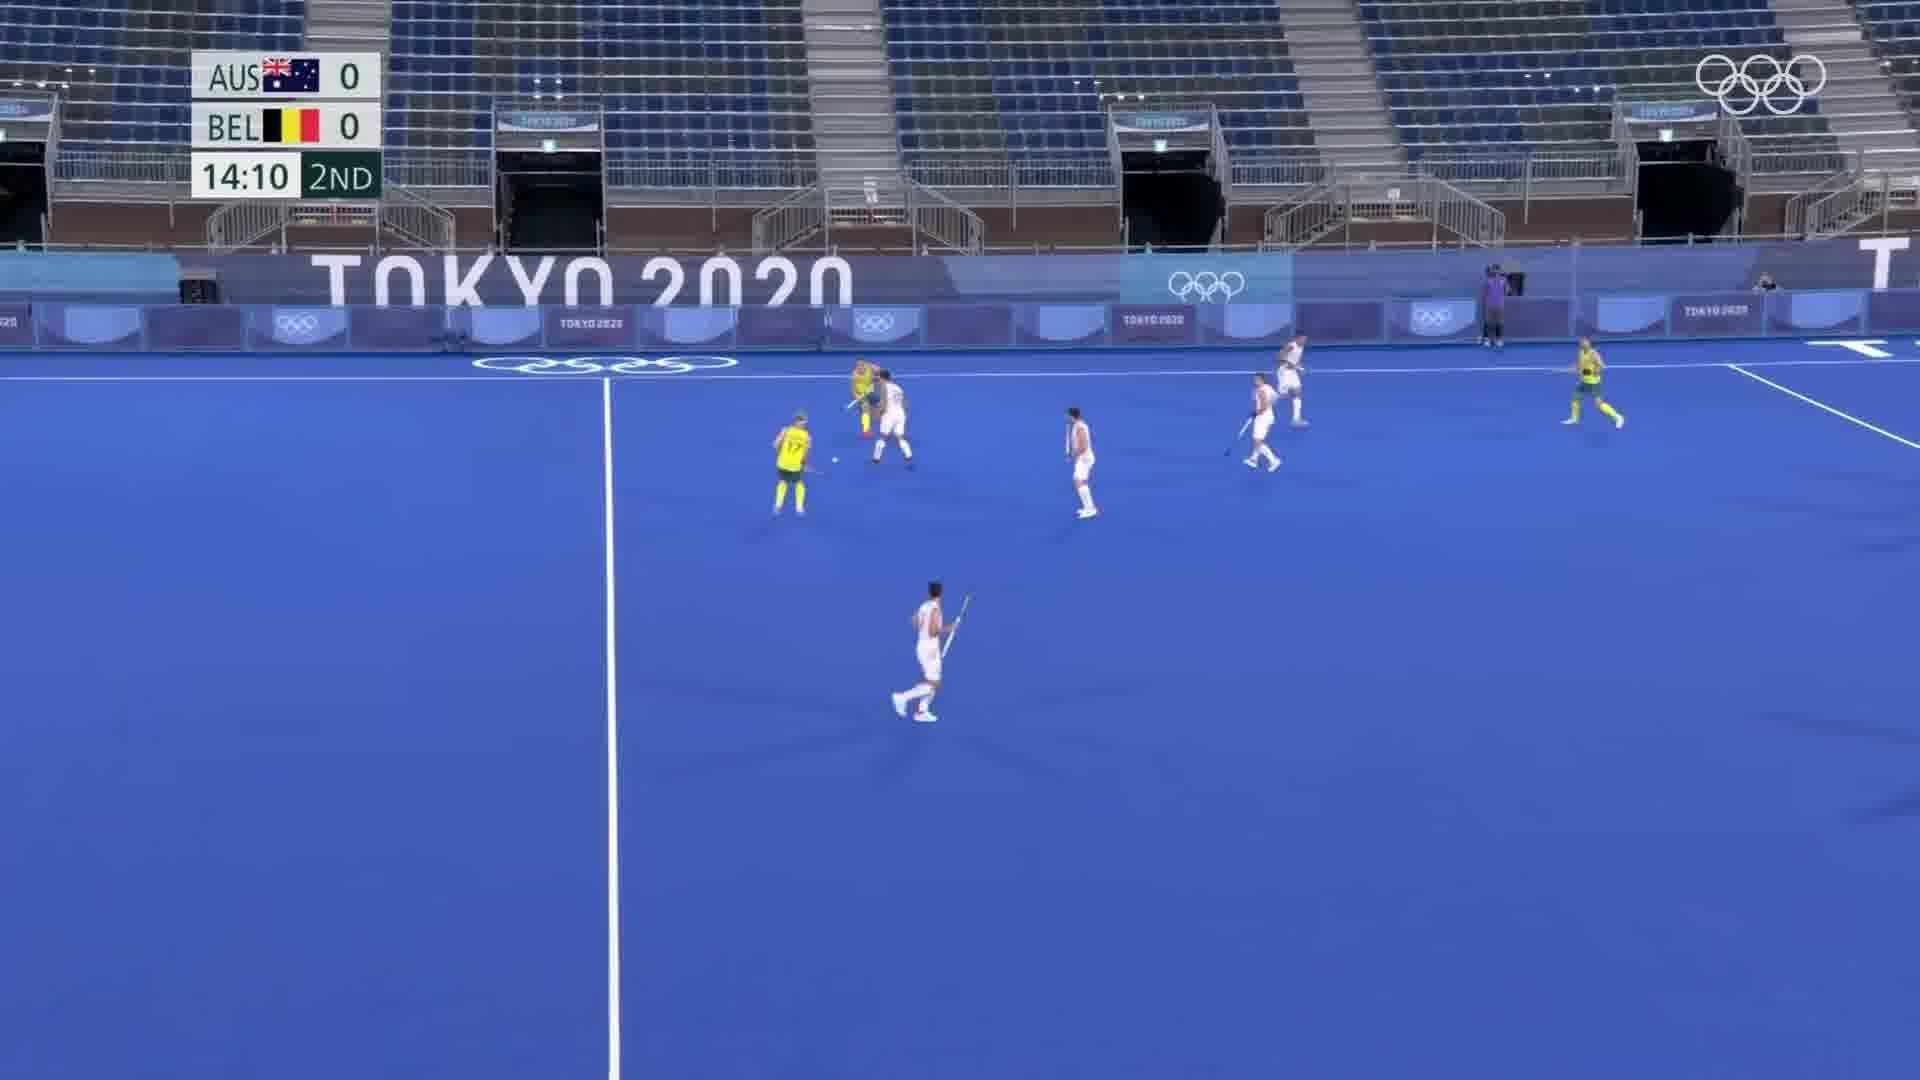ball: (829, 454, 841, 465)
